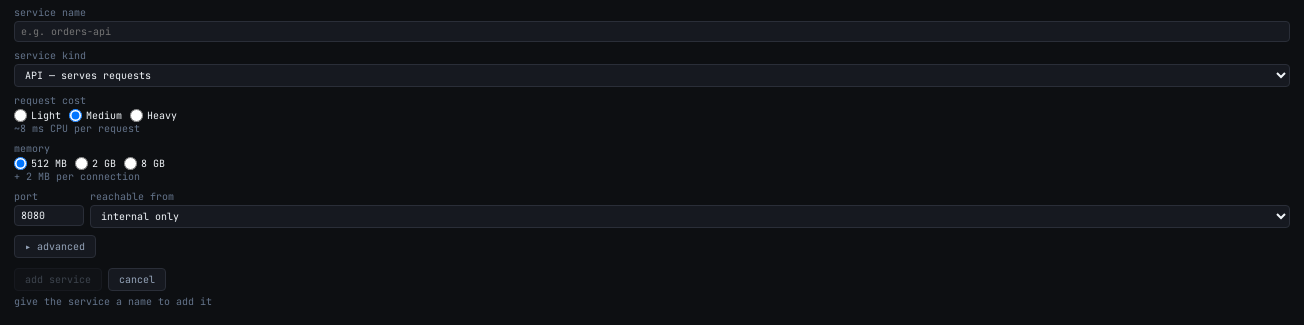
Scenario: AddServiceForm › explains that a name is required while the button is disabled, and focuses the name field
Expected: the text "give the service a name to add it" is shown, [14, 295, 212, 308]
Type "orders-api" into the field labelled "service name" at (652, 32), box [14, 21, 1290, 42]
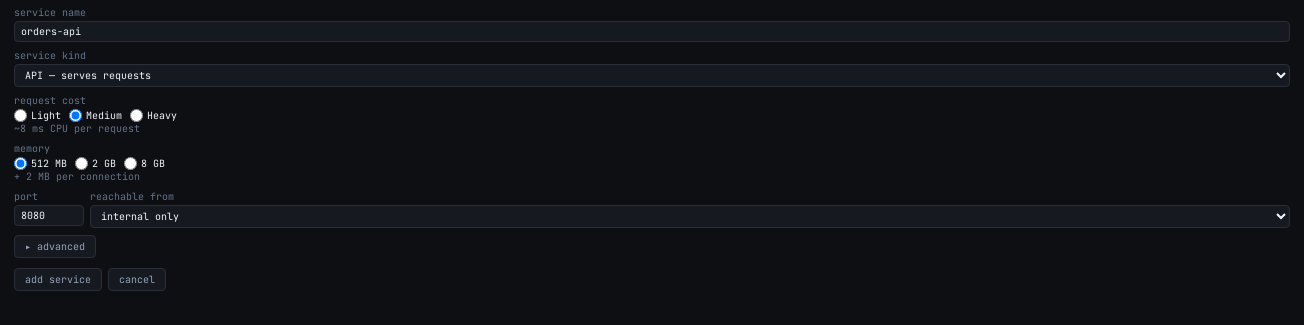
Expected: the text with test id "svc-name-required" is gone
Expected: the button "add service" is enabled, [14, 268, 102, 291]
